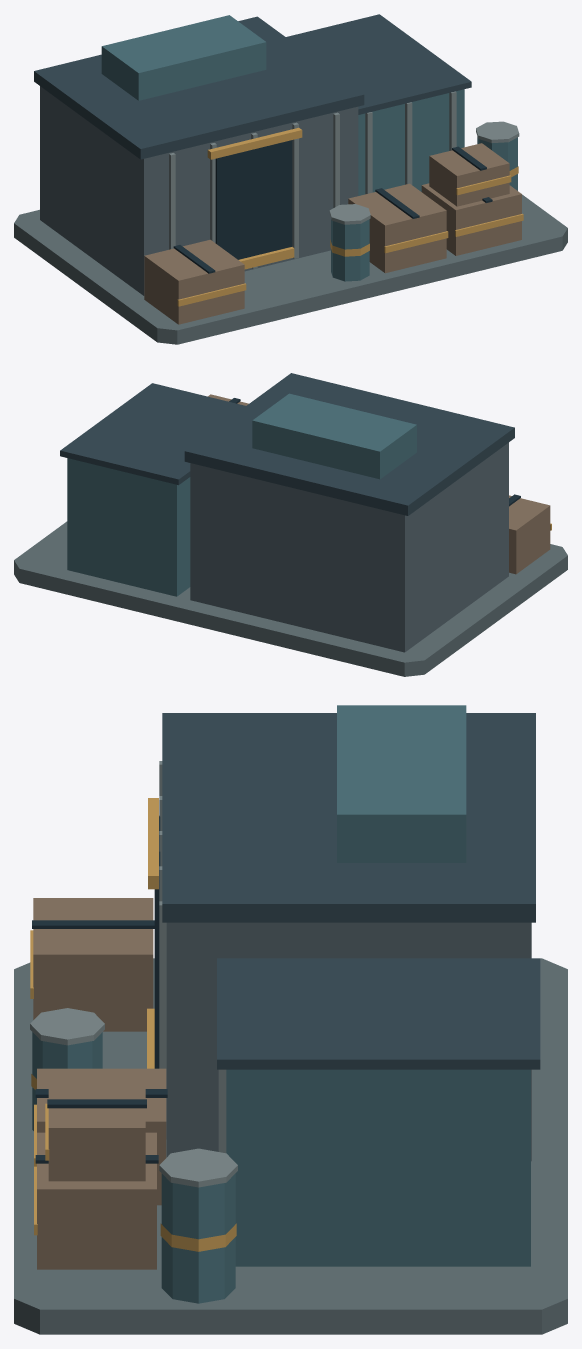
Rendered from submarine-ammo-depot.glb.
3 renders of one model, top to bottom at view 1: azimuth 30°, elevation 25°; view 2: azimuth 150°, elevation 25°; view 3: azimuth 270°, elevation 25°, orthographic. The views are drawn at different scales.
Visible parts, largest first — view 1: intact_structure; view 2: intact_structure; view 3: intact_structure.
Boxes of the visible parts, x1,y1,x2,y2 form: intact_structure: (14,14,567,344); intact_structure: (14,373,567,676); intact_structure: (14,705,567,1334).
Size of the model in its own units: 9 by 4 by 6.
